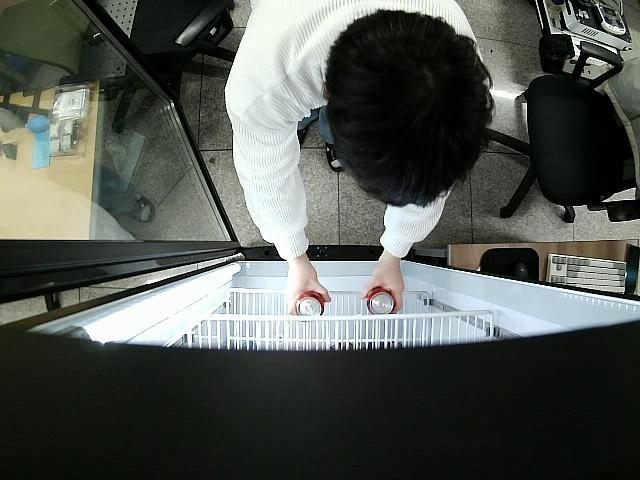11_cocaColaZero: (365, 286, 394, 314), (295, 290, 324, 316)
